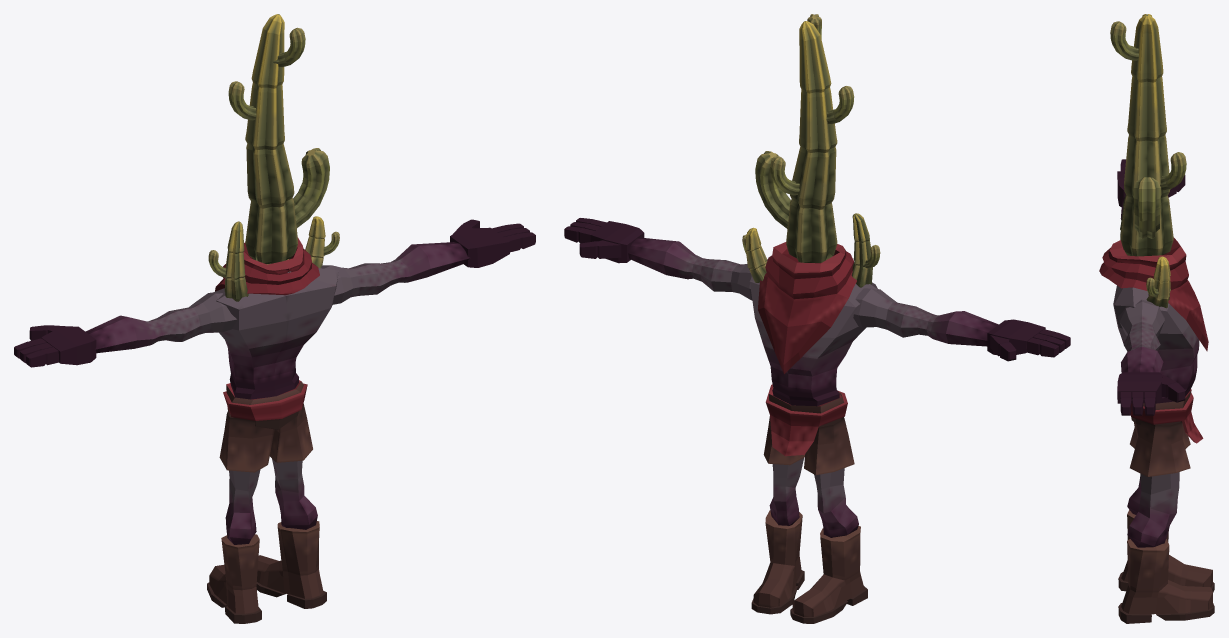
The model's file is ZombieNopal_Final_Joined.fbx.
3 renders of one model, left to right at view 1: azimuth 30°, elevation 25°; view 2: azimuth 150°, elevation 25°; view 3: azimuth 270°, elevation 25°, orthographic. The views are drawn at different scales.
Parts seen in each view (by area): view 1: Cadera.001; view 2: Cadera.001; view 3: Cadera.001.
Part boxes in pixels (<box>): Cadera.001: <box>14,14,535,623</box>; Cadera.001: <box>564,14,1070,623</box>; Cadera.001: <box>1099,14,1214,623</box>.
Size of the model in its own units: 809 by 899 by 159.
